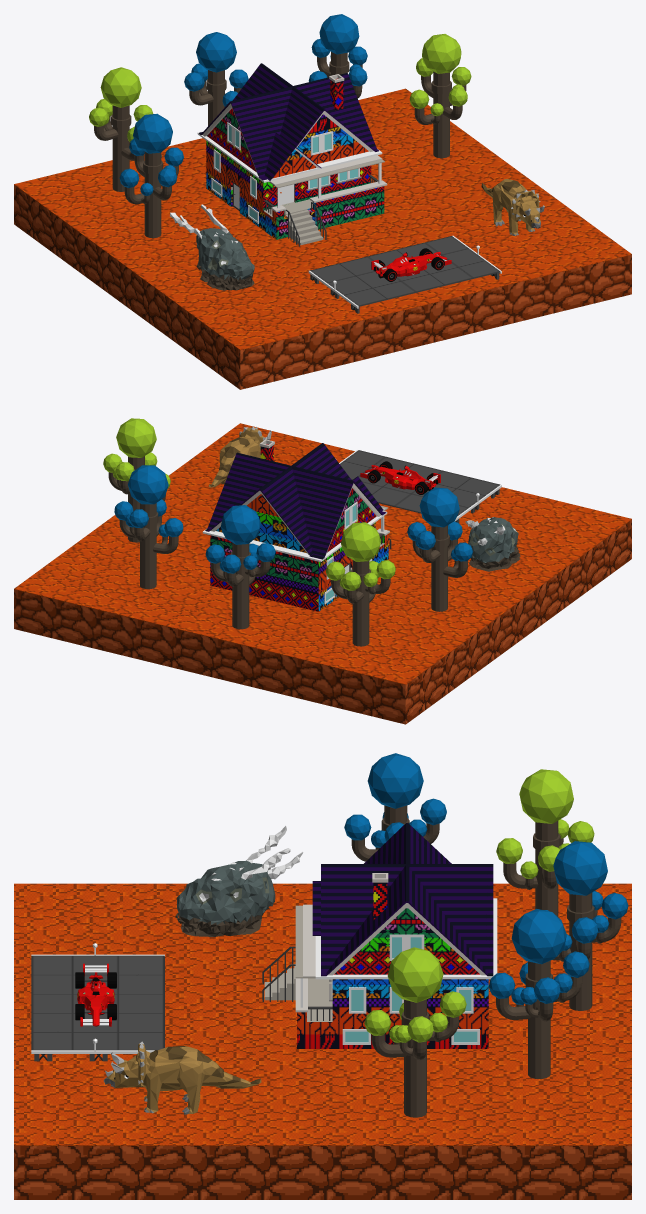
The picture shows the model from 3 angles, top to bottom: view 1: azimuth 30°, elevation 25°; view 2: azimuth 150°, elevation 25°; view 3: azimuth 270°, elevation 25°; orthographic projection. The views are drawn at different scales.
Parts seen in each view (by area): view 1: Cube.001, Cube.966, OBJRANDOM_METEORITE, ANIMAL_Triceratops, VEHICLES_FORMULA_1; view 2: Cube.001, Cube.966, OBJRANDOM_METEORITE, VEHICLES_FORMULA_1, ANIMAL_Triceratops; view 3: Cube.001, Cube.966, OBJRANDOM_METEORITE, ANIMAL_Triceratops, VEHICLES_FORMULA_1.
Part boxes in pixels (x1=…): Cube.001: x1=14, y1=14, x2=631, y2=389; Cube.966: x1=197, y1=63, x2=387, y2=246; OBJRANDOM_METEORITE: x1=170, y1=204, x2=254, y2=290; ANIMAL_Triceratops: x1=481, y1=179, x2=544, y2=235; VEHICLES_FORMULA_1: x1=371, y1=248, x2=451, y2=281; Cube.001: x1=14, y1=418, x2=631, y2=724; Cube.966: x1=202, y1=439, x2=391, y2=611; OBJRANDOM_METEORITE: x1=465, y1=517, x2=520, y2=571; VEHICLES_FORMULA_1: x1=360, y1=461, x2=440, y2=494; ANIMAL_Triceratops: x1=208, y1=427, x2=271, y2=487; Cube.001: x1=14, y1=753, x2=631, y2=1199; Cube.966: x1=262, y1=823, x2=497, y2=1048; OBJRANDOM_METEORITE: x1=175, y1=826, x2=303, y2=936; ANIMAL_Triceratops: x1=103, y1=1041, x2=261, y2=1114; VEHICLES_FORMULA_1: x1=75, y1=963, x2=116, y2=1026.
Size of the model in its own units: 4000 by 1642 by 4000.
44 materials, 8 textured.
